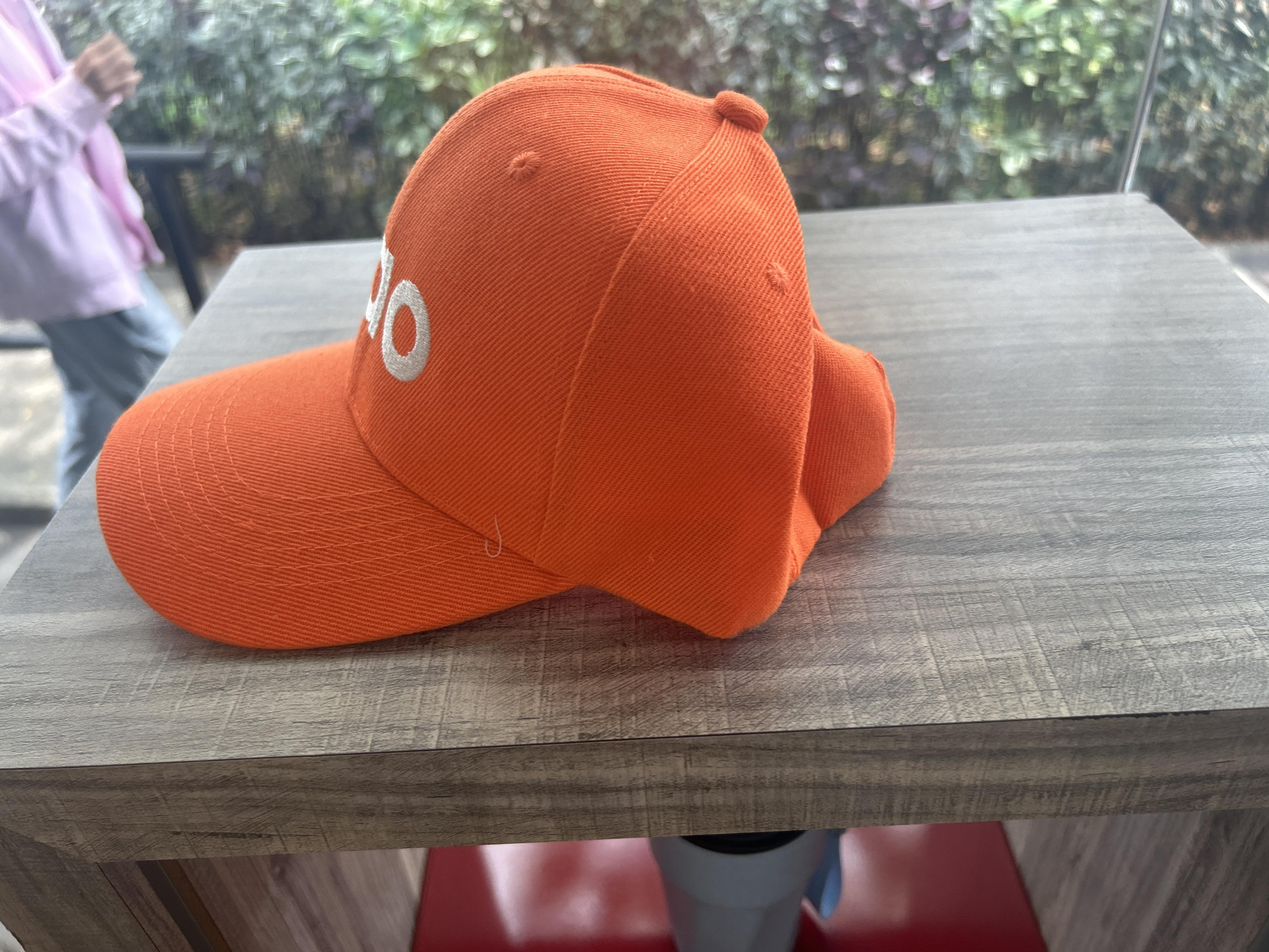gorra: (99, 66, 894, 649)
